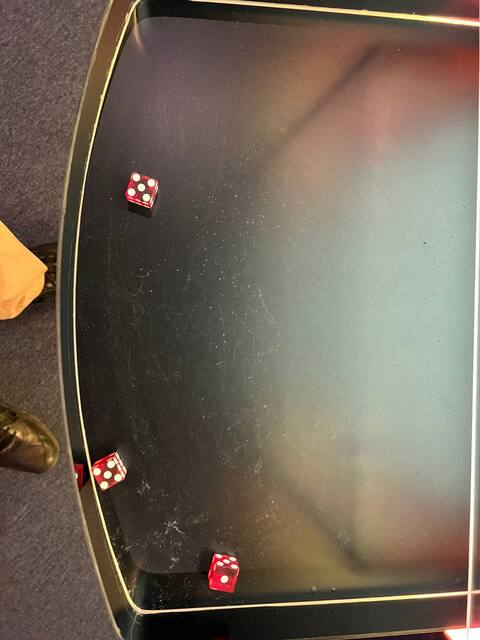five: (89, 456, 126, 493), (122, 170, 159, 205)
one: (205, 565, 240, 597)
